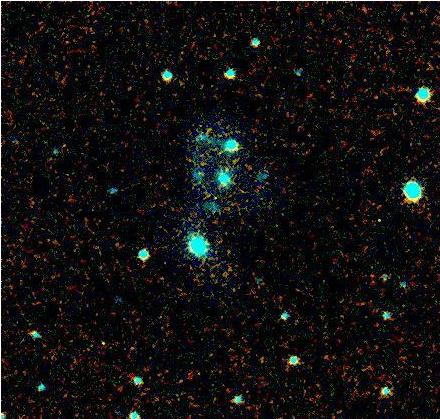star: (199, 183, 229, 213)
